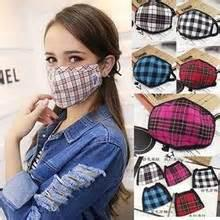OK: (46, 45, 101, 105)
